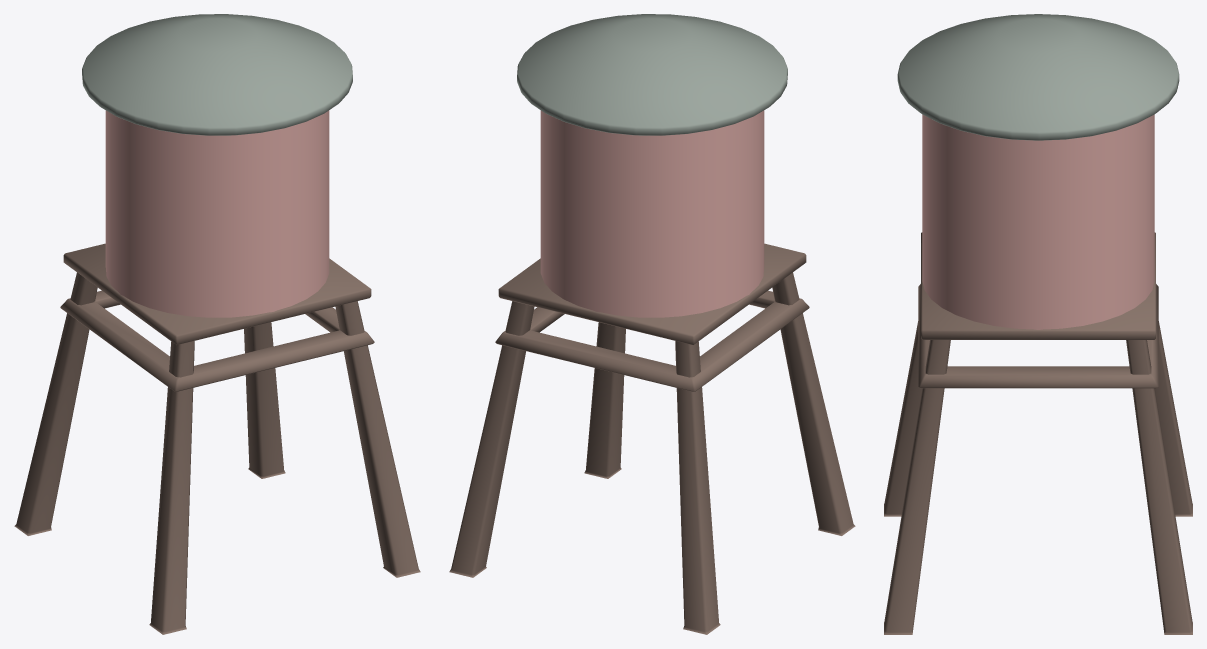
File: WaterTower.fbx
The picture shows the model from 3 angles, left to right: view 1: azimuth 30°, elevation 25°; view 2: azimuth 150°, elevation 25°; view 3: azimuth 270°, elevation 25°; orthographic projection. The views are drawn at different scales.
Parts seen in each view (by area): view 1: Cube; view 2: Cube; view 3: Cube.
Boxes of the visible parts, x1,y1,x2,y2 form: Cube: [14, 14, 420, 634]; Cube: [449, 14, 855, 634]; Cube: [884, 14, 1192, 634].
Bounding box in the file's own units: 289 × 551 × 289.
